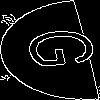G: (24, 25, 100, 70)
